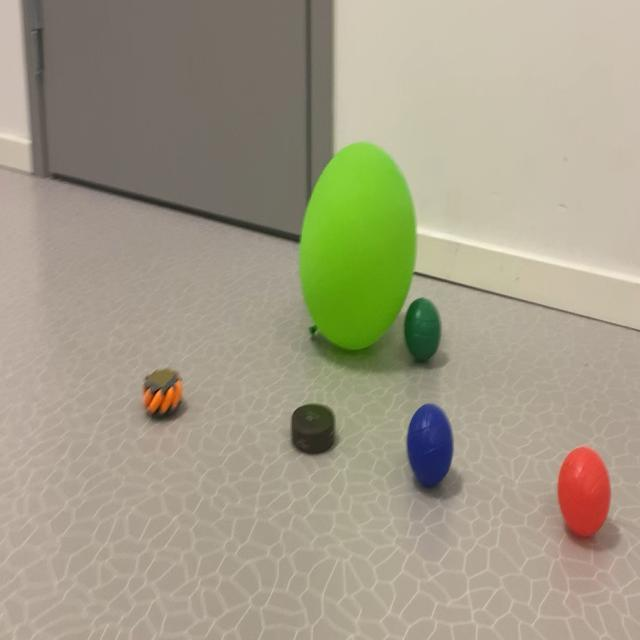blue ball: (401, 403, 453, 491)
green ball: (406, 300, 444, 371)
red ball: (549, 452, 614, 538)
